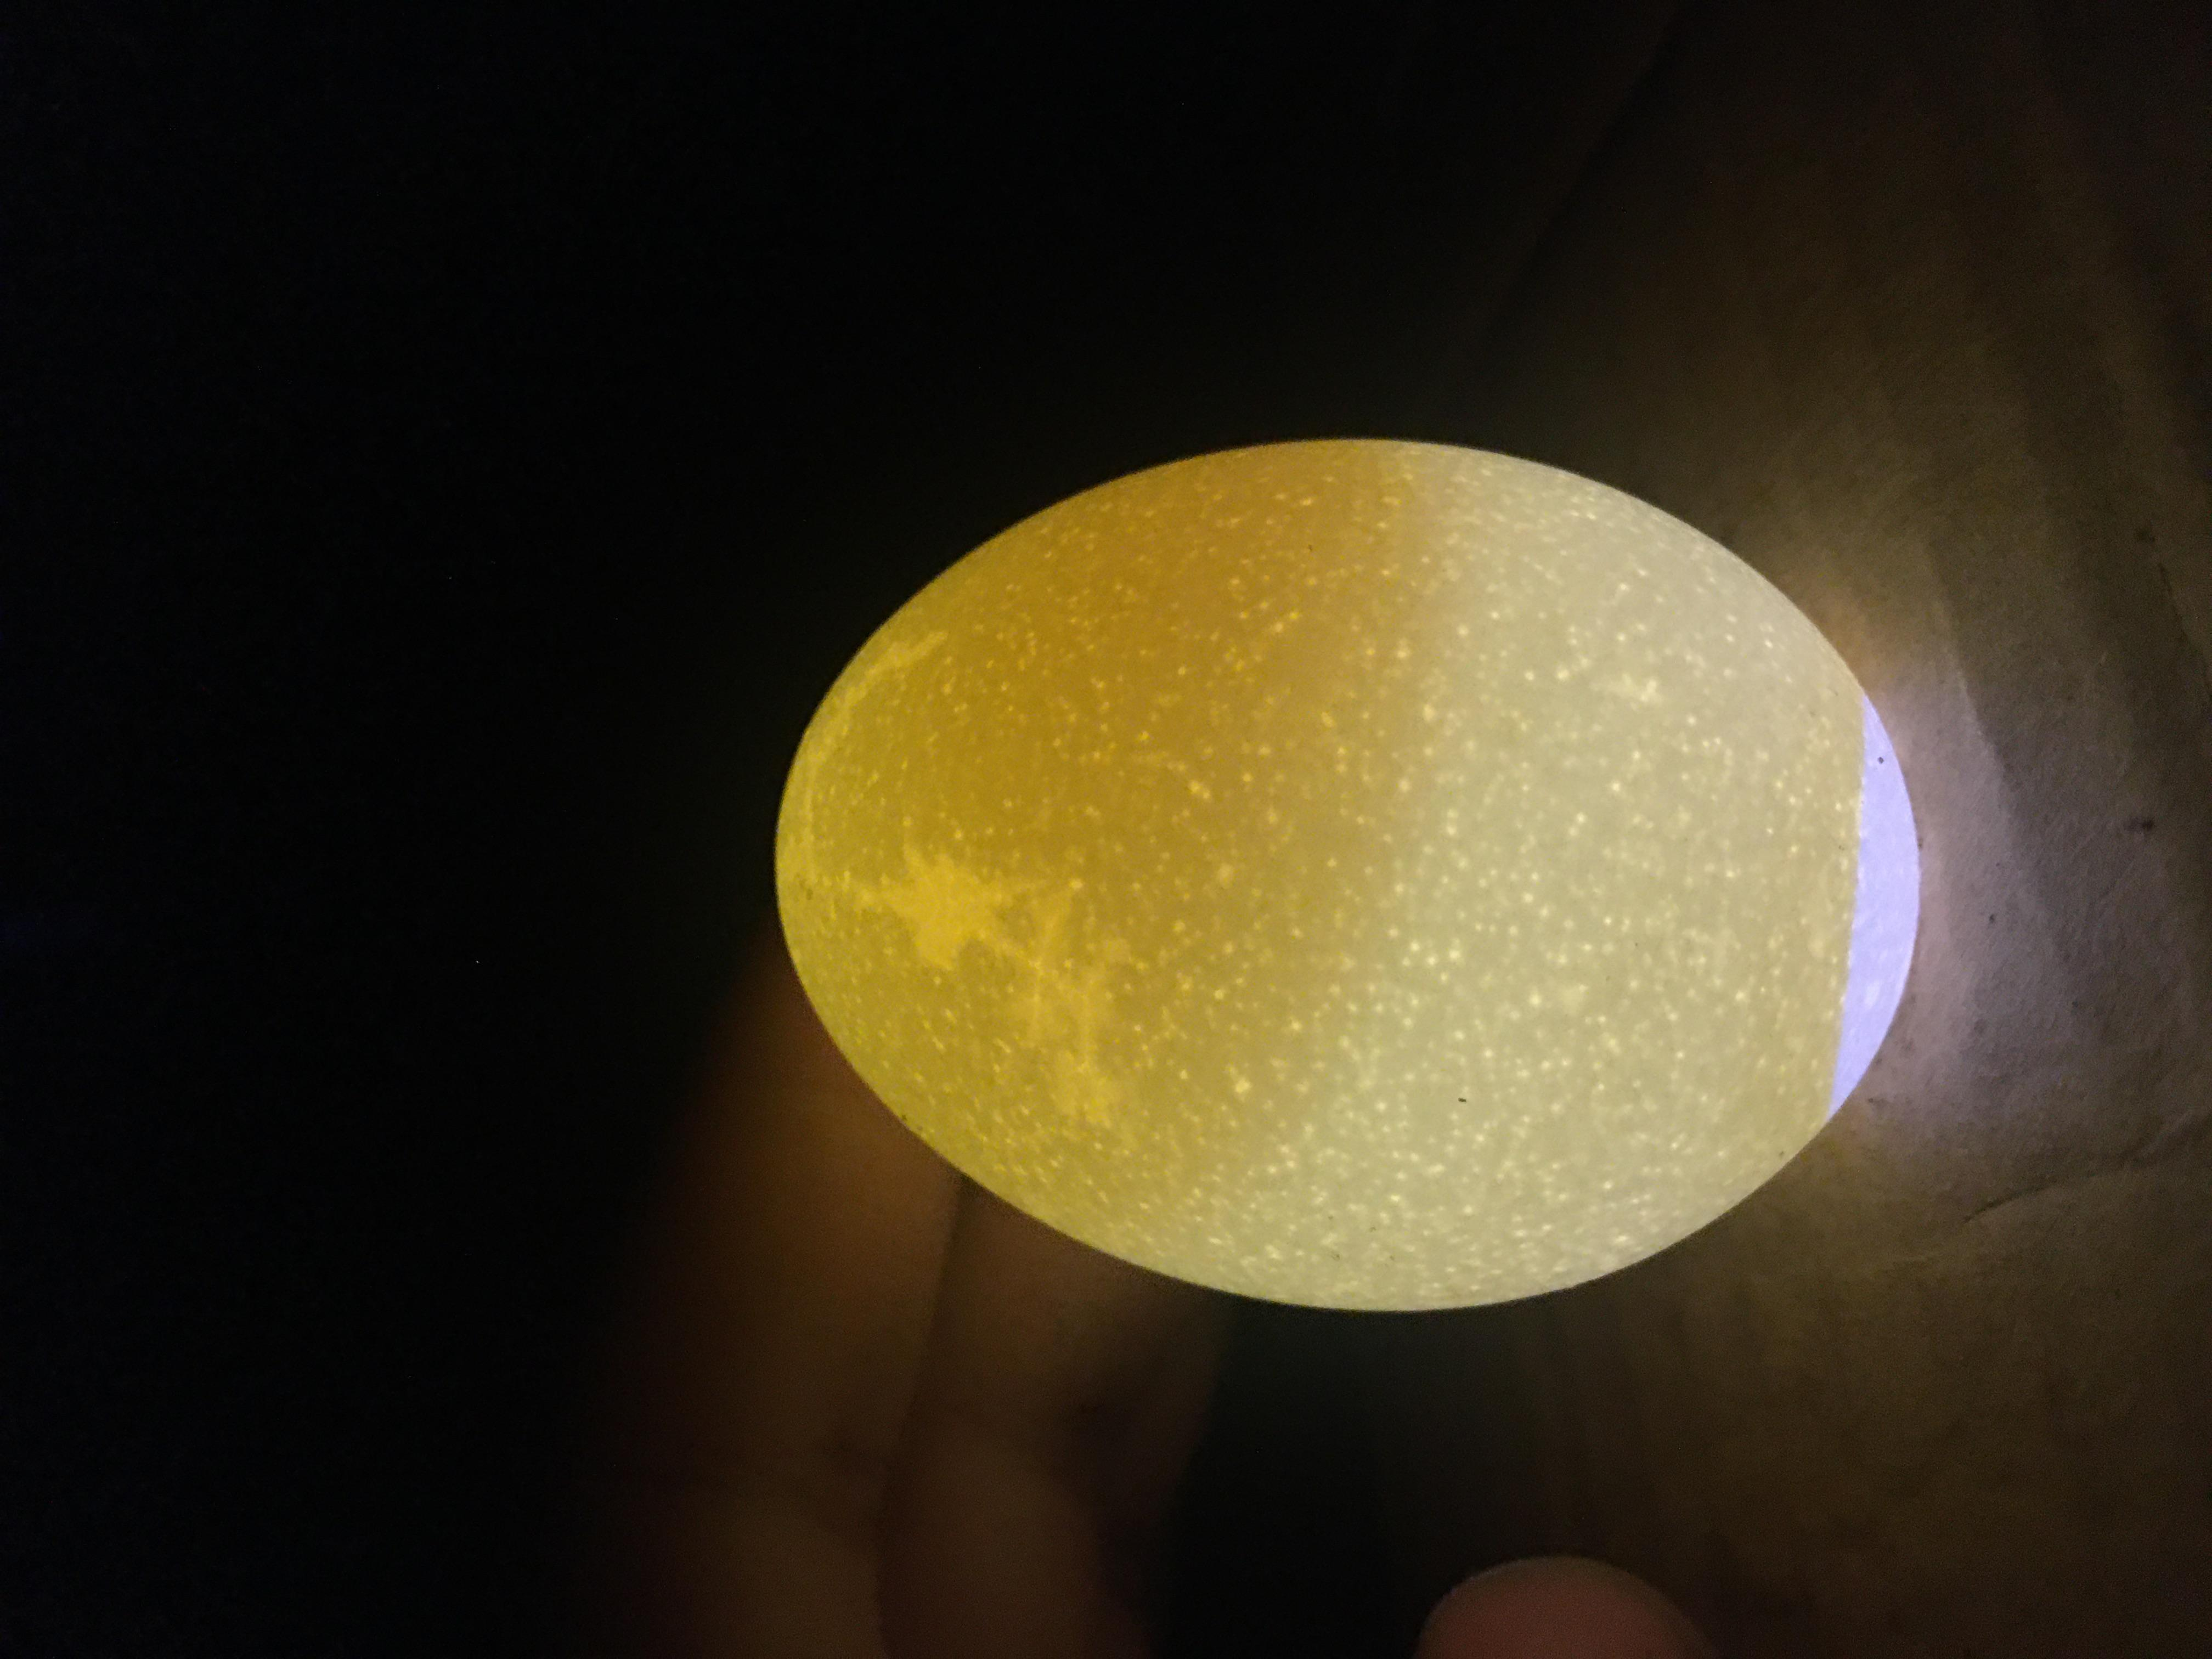B - Fair: (425, 563, 1642, 1450)
